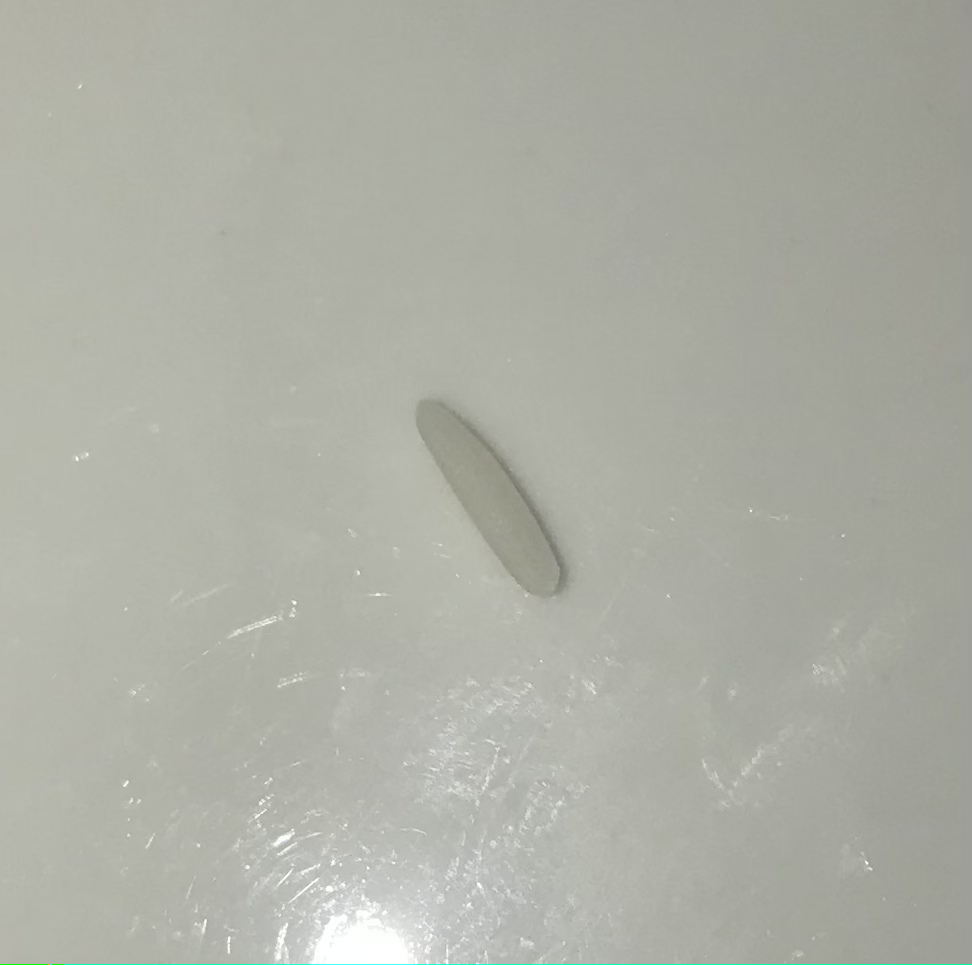Gao Thom Go Cong: (406, 366, 590, 611)
